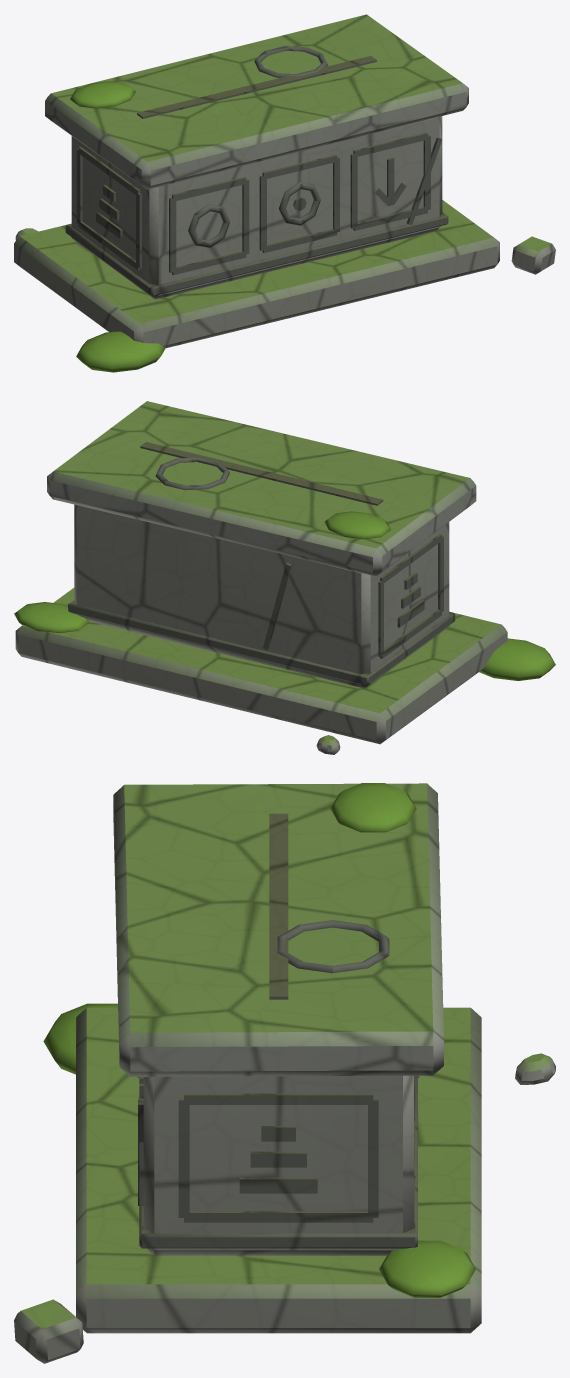
Rendered from stone_altar.glb.
3 views of the same model, one above another, from view 1: azimuth 30°, elevation 25°; view 2: azimuth 150°, elevation 25°; view 3: azimuth 270°, elevation 25° (orthographic). The views are drawn at different scales.
Parts seen in each view (by area): view 1: stone_altar; view 2: stone_altar; view 3: stone_altar.
Part boxes in pixels (box(x1,y1,x2,y2)): stone_altar: box(14, 14, 555, 372); stone_altar: box(14, 401, 555, 754); stone_altar: box(14, 783, 555, 1363).
Size of the model in its own units: 3.11 by 1.3 by 2.
Materials: 3 (3 with a texture image).
